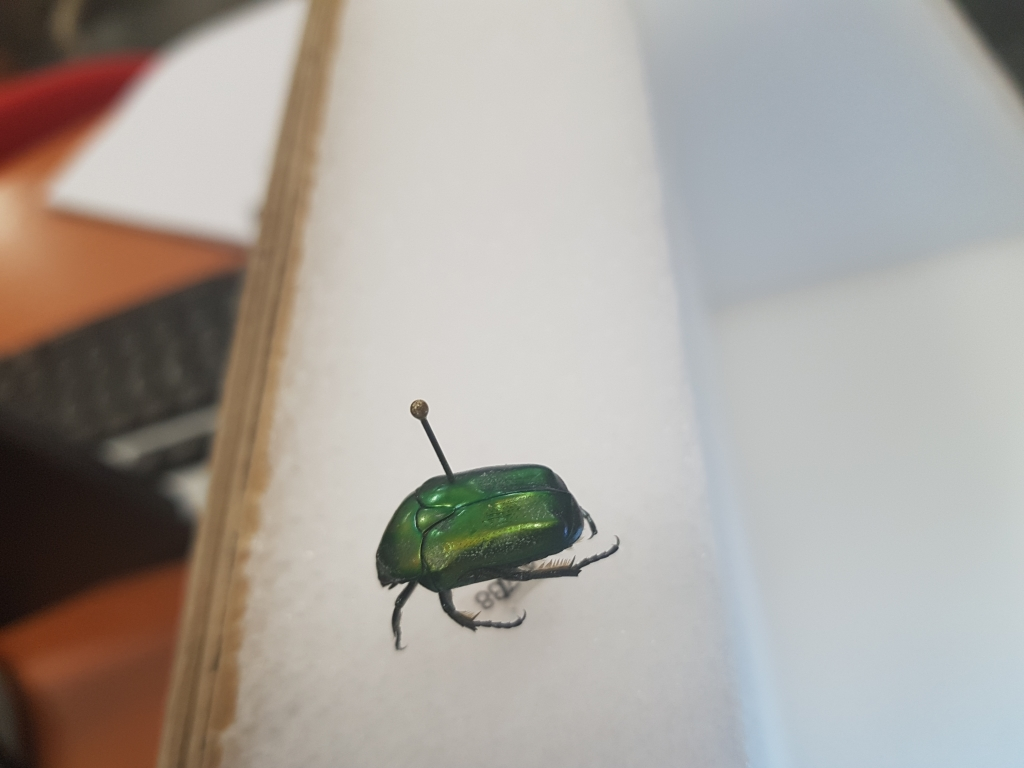Protaetia_cuprea_ignicollis: (368, 447, 633, 652)
